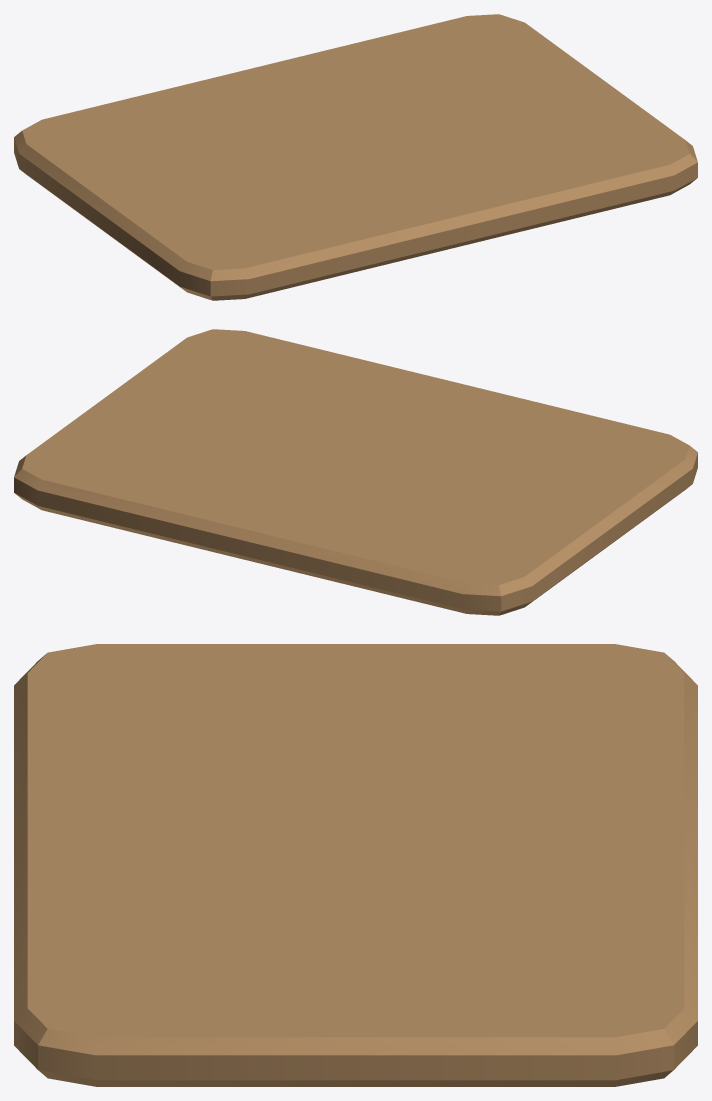
Rendered from tabla_picar.glb.
The picture shows the model from 3 angles, top to bottom: view 1: azimuth 30°, elevation 25°; view 2: azimuth 150°, elevation 25°; view 3: azimuth 270°, elevation 25°; orthographic projection. The views are drawn at different scales.
Parts seen in each view (by area): view 1: tabla_picar; view 2: tabla_picar; view 3: tabla_picar.
Part boxes in pixels (left/top/right/bottom): tabla_picar: left=14, top=14, right=697, bottom=300; tabla_picar: left=14, top=329, right=697, bottom=615; tabla_picar: left=14, top=644, right=697, bottom=1086.
Size of the model in its own units: 0.35 by 0.02 by 0.25.
